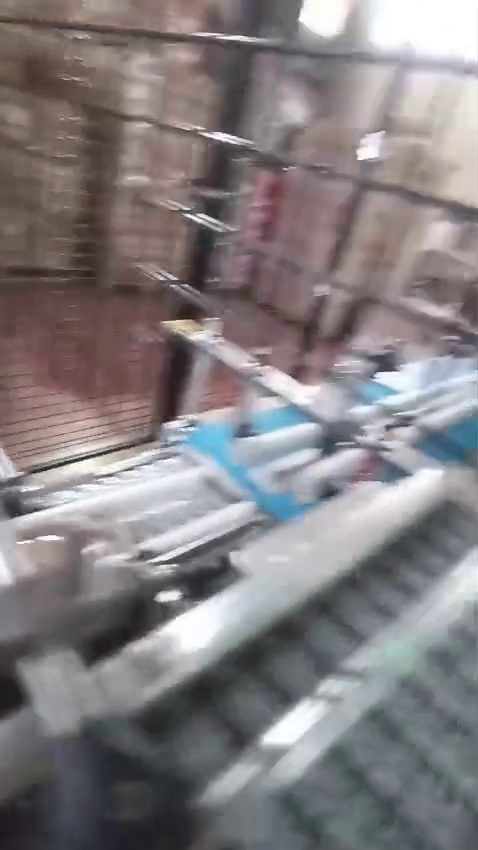savon: (0, 0, 128, 264), (172, 314, 201, 331)
